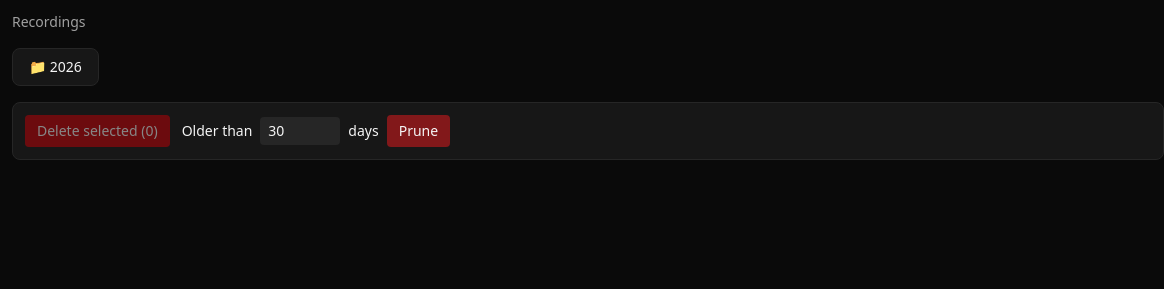
lists folders at the root and drills down to files
The width and height of the screenshot is (1164, 289).
Step 1. Click the button named "open folder 2026" → (55, 67), box [12,48,99,86]
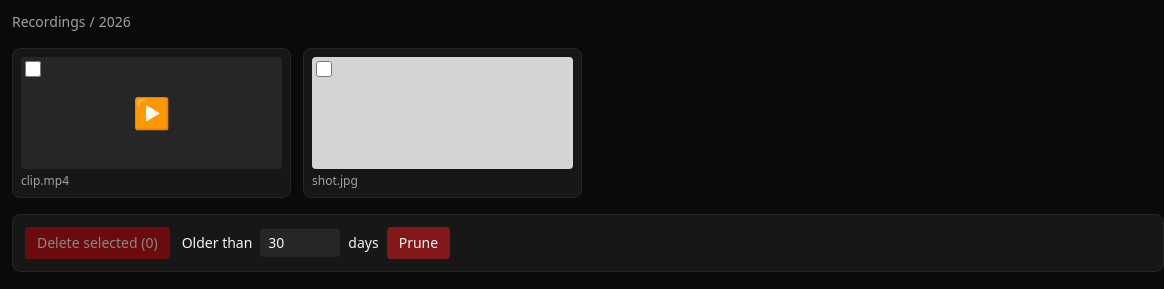
Expected: the text "clip.mp4" is shown, [21,172,69,189]
Expected: the text "shot.jpg" is shown, [312,172,358,189]
